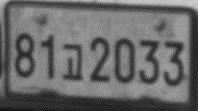0: (114, 37, 137, 83)
1: (39, 34, 55, 80)
2: (88, 36, 111, 82)
3: (163, 40, 185, 86), (138, 39, 160, 84)
8: (14, 31, 36, 77)
고: (59, 42, 86, 83)
